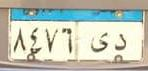4: (30, 24, 42, 53)
6: (62, 27, 74, 55)
7: (45, 28, 58, 53)
8: (12, 26, 26, 53)
daal: (114, 31, 128, 53)
yaa: (89, 30, 110, 54)
